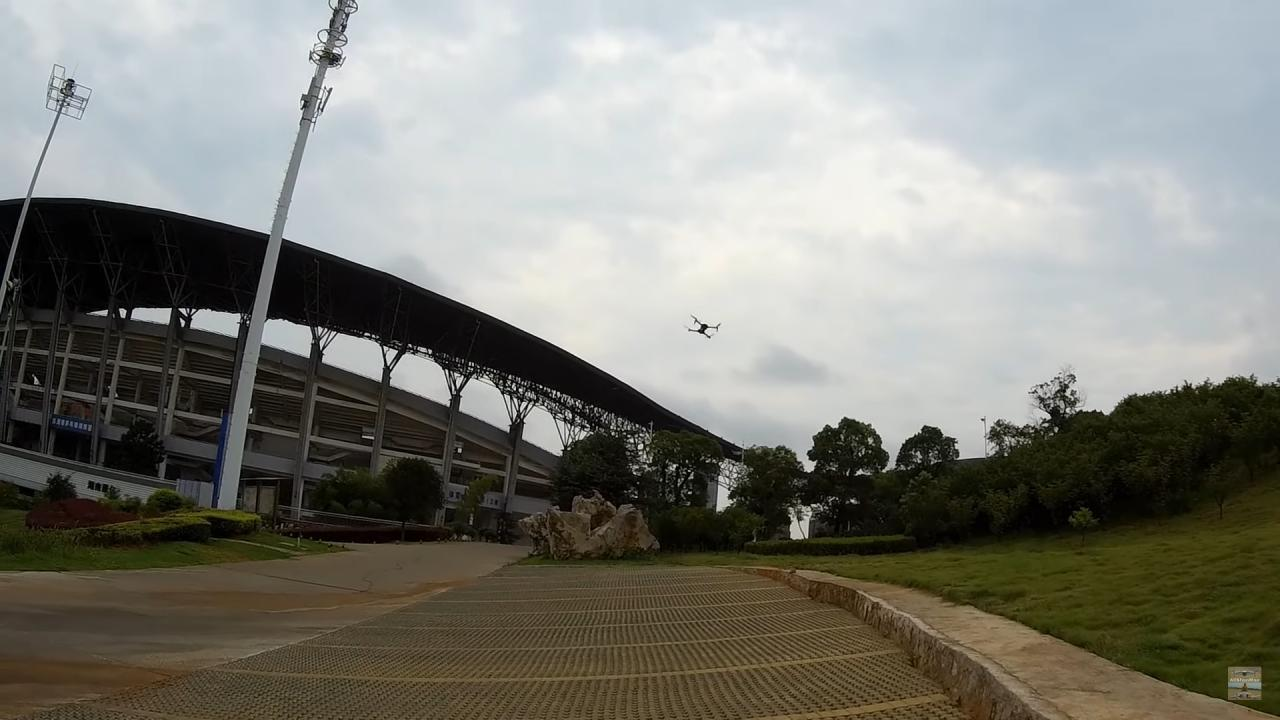Drone: (676, 309, 730, 347)
